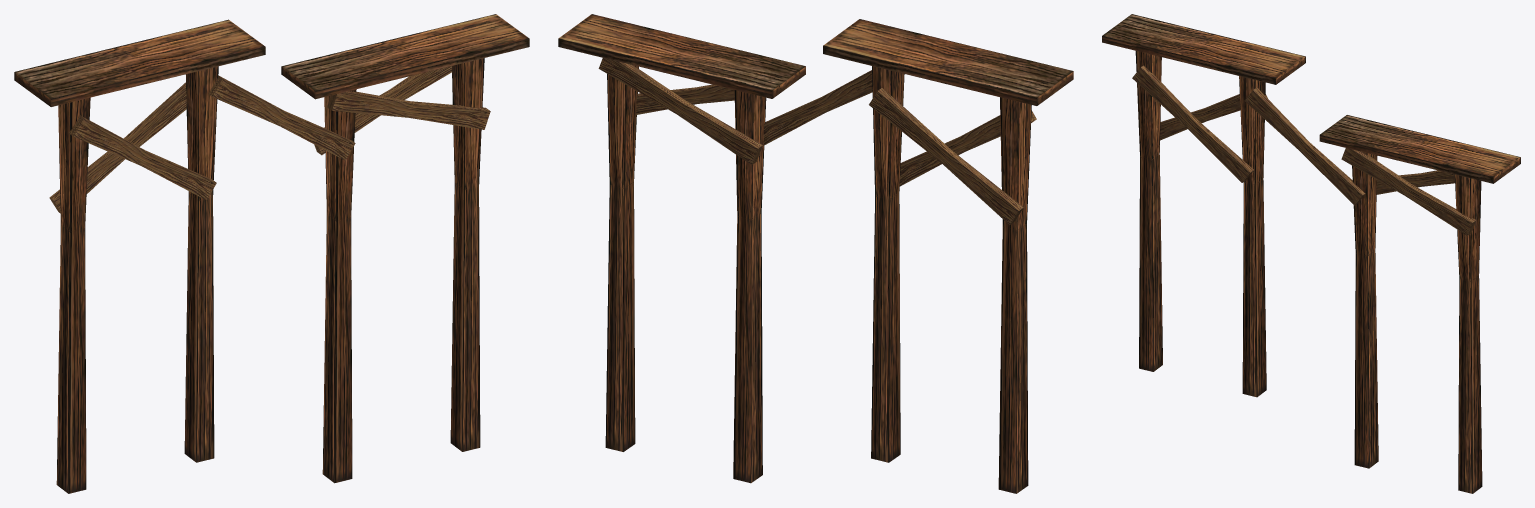
Rendered from LAKETOWN_WAREHOUSE2_PS_WH2_PLATFORM2_373__GX.fbx.
3 views of the same model, side by side, from view 1: azimuth 30°, elevation 25°; view 2: azimuth 150°, elevation 25°; view 3: azimuth 330°, elevation 25° (orthographic). The views are drawn at different scales.
Parts seen in each view (by area): view 1: LAKETOWN_WAREHOUSE2_PS_WH2_PLATFORM2_373__GX; view 2: LAKETOWN_WAREHOUSE2_PS_WH2_PLATFORM2_373__GX; view 3: LAKETOWN_WAREHOUSE2_PS_WH2_PLATFORM2_373__GX.
Boxes of the visible parts, x1=… form: LAKETOWN_WAREHOUSE2_PS_WH2_PLATFORM2_373__GX: x1=14, y1=14, x2=529, y2=493; LAKETOWN_WAREHOUSE2_PS_WH2_PLATFORM2_373__GX: x1=558, y1=14, x2=1073, y2=493; LAKETOWN_WAREHOUSE2_PS_WH2_PLATFORM2_373__GX: x1=1102, y1=14, x2=1520, y2=493.
Size of the model in its own units: 90759 by 84264 by 12039.
Materials: 3 (3 with a texture image).
